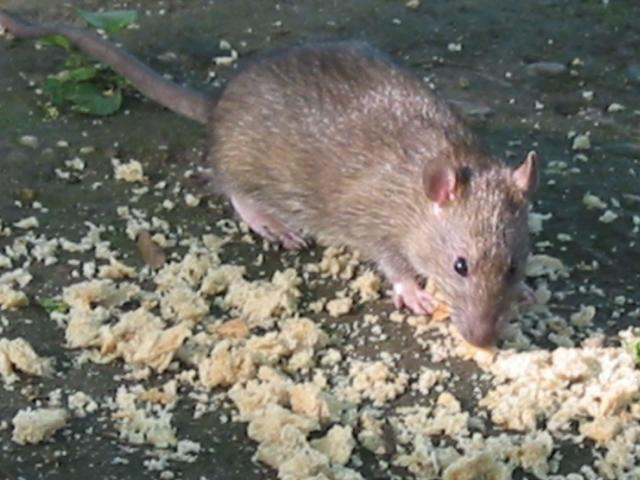rat: (148, 10, 540, 354)
